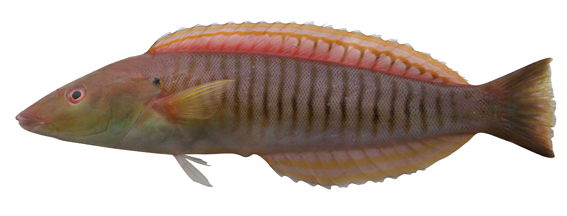fish: (16, 21, 558, 190)
